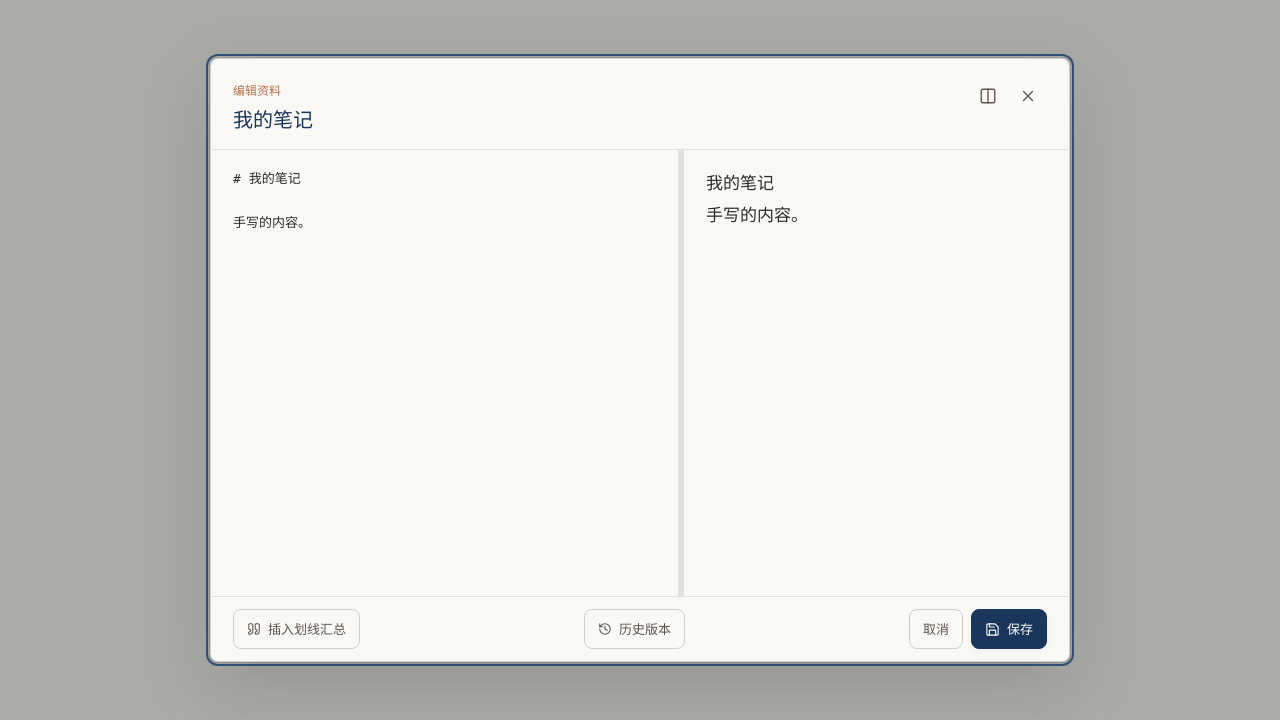
Test: 再点一次不重复插入（没有变化就不改正文）
Click the button "插入划线汇总": x=296, y=629 233,609 -> 360,649
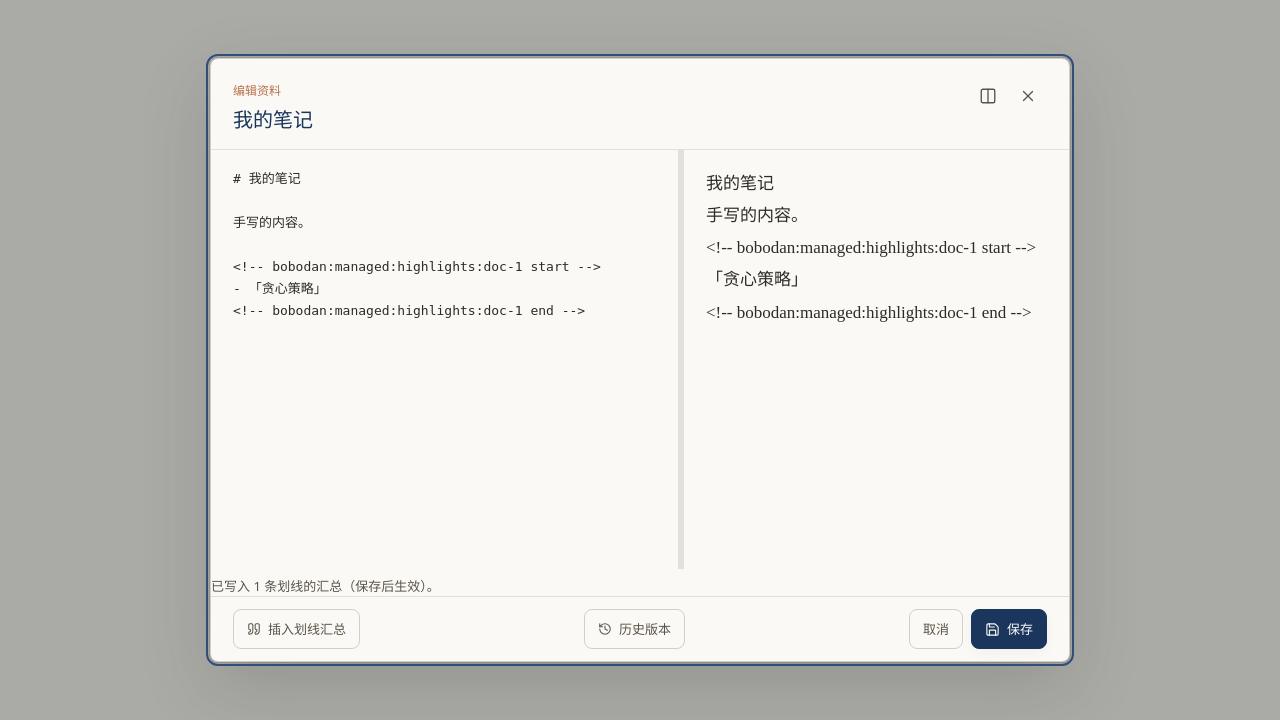
Expected: the text "已写入 1 条划线的汇总（保存后生效）。" is shown, 211,577 -> 440,595
Click the button "插入划线汇总": x=296, y=629 233,609 -> 360,649
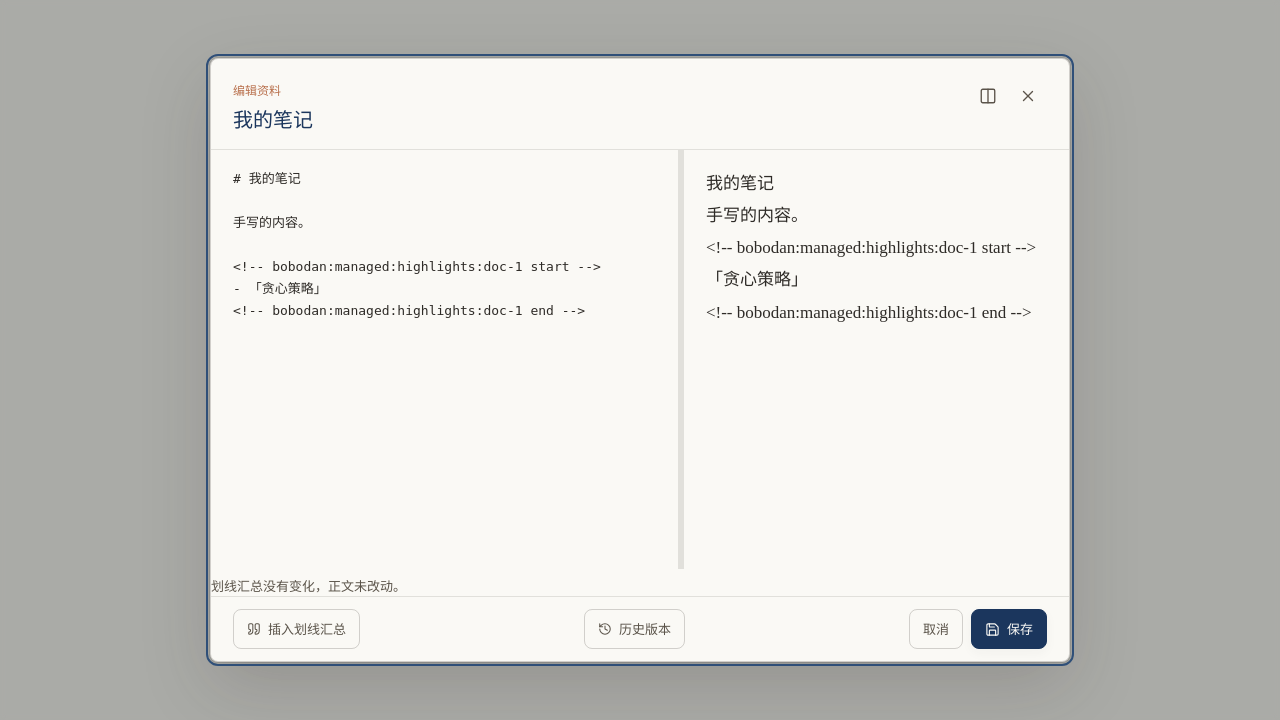
Expected: the text "划线汇总没有变化，正文未改动。" is shown, 211,577 -> 406,595
